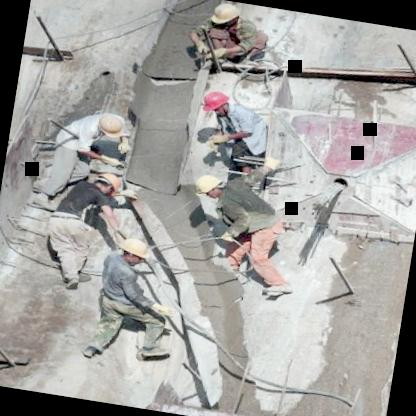helmet: (186, 170, 232, 202), (207, 0, 244, 37), (115, 235, 151, 268), (89, 167, 127, 198), (199, 86, 233, 119), (90, 111, 128, 140)
